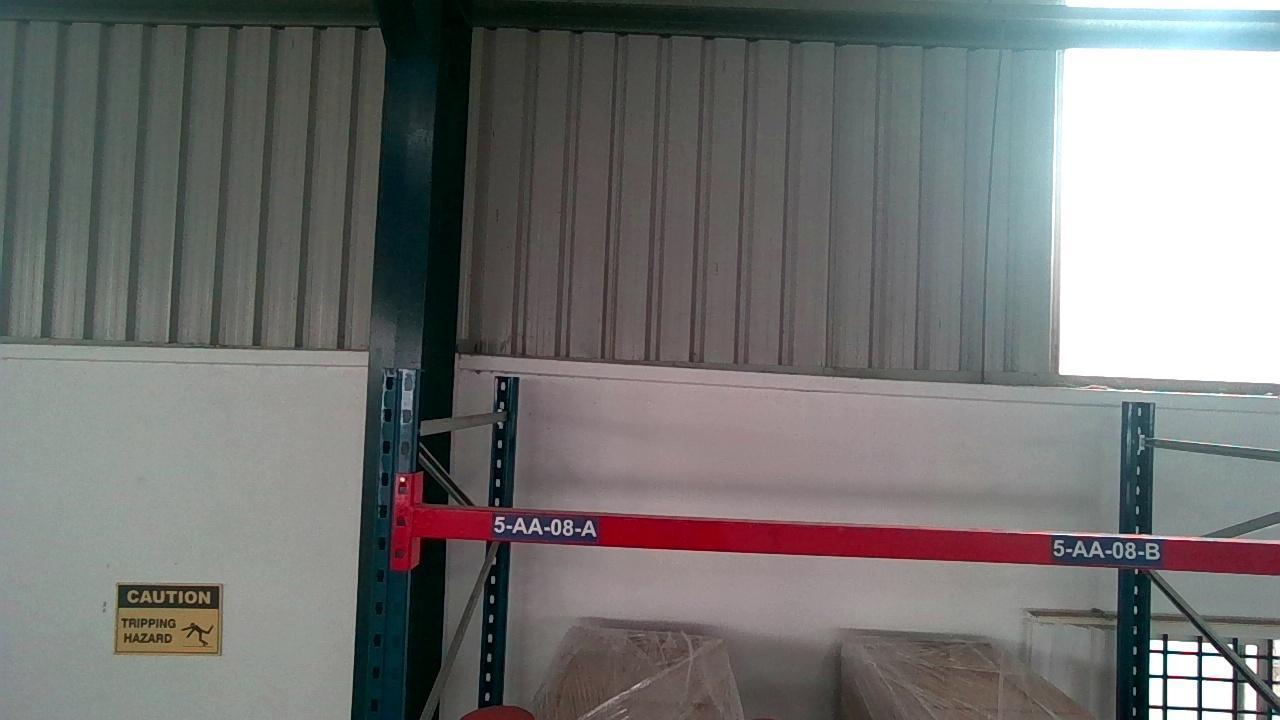h_rack: (411, 510, 1280, 572)
